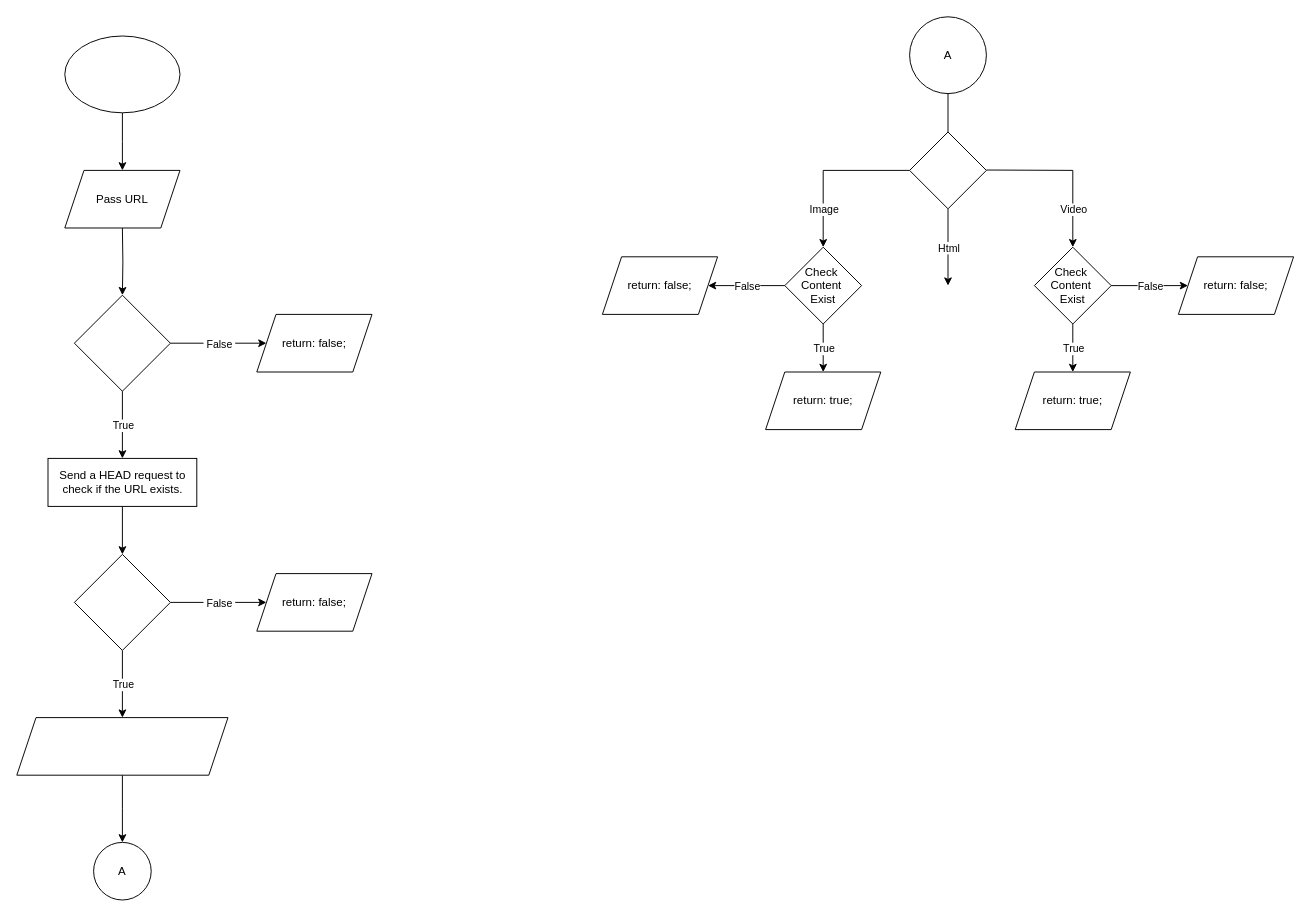
Image size: 1310x917. Some labels were removed from this diagram. Here are the shapes that lost their labels. From the top down, the centre of each, then its label:
At [122,74]: "Start".
At [947,170]: "Check Content Type".
At [121,342]: "Validate Url".
At [121,601]: "Check Response Is ok".
At [122,746]: "Retrieve the content type from the response headers. (video, image, HTML)".
